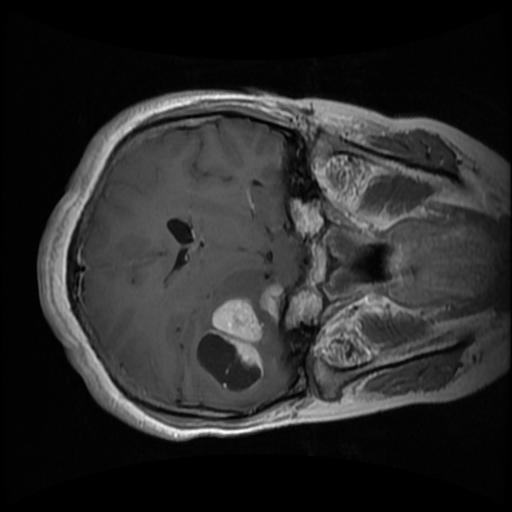meningioma: (197, 299, 263, 393)
